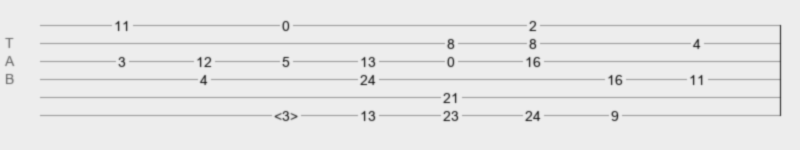0: (282, 18, 290, 28), (447, 54, 455, 64)
11: (114, 18, 130, 28), (689, 72, 705, 82)
12: (196, 54, 212, 64)
13: (360, 54, 376, 64), (360, 108, 376, 118)
16: (525, 54, 541, 64), (607, 72, 623, 82)
2: (529, 18, 537, 28)
21: (443, 90, 459, 100)
23: (443, 108, 459, 118)
24: (360, 72, 376, 82), (525, 108, 541, 118)
3: (118, 54, 126, 64)
4: (200, 72, 208, 82), (693, 36, 701, 46)
5: (282, 54, 290, 64)
8: (447, 36, 455, 46), (529, 36, 537, 46)
9: (611, 108, 619, 118)
harmonic: (274, 108, 298, 118)
